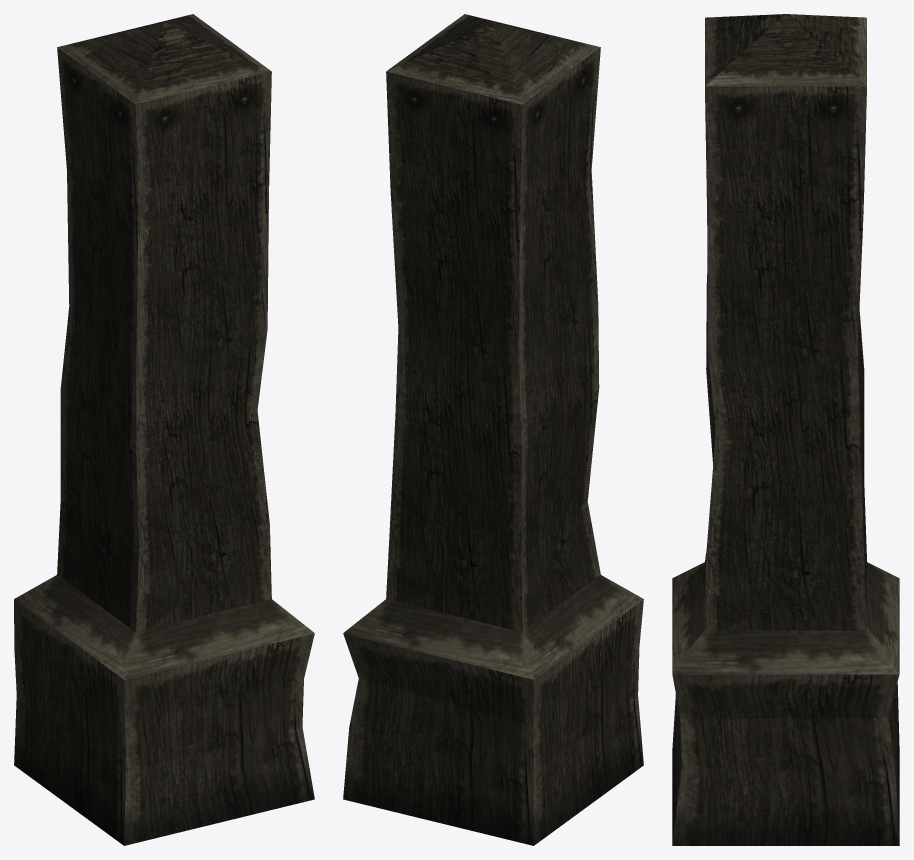
Rendered from welder_wood.dae.
3 renders of one model, left to right at view 1: azimuth 30°, elevation 25°; view 2: azimuth 150°, elevation 25°; view 3: azimuth 270°, elevation 25°, orthographic. The views are drawn at different scales.
Parts seen in each view (by area): view 1: pCube2; view 2: pCube2; view 3: pCube2.
Boxes of the visible parts, bbox=[...] form: pCube2: bbox=[14, 14, 314, 845]; pCube2: bbox=[343, 14, 643, 845]; pCube2: bbox=[672, 14, 899, 845].
Size of the model in its own units: 0.394 by 1.5 by 0.394.
